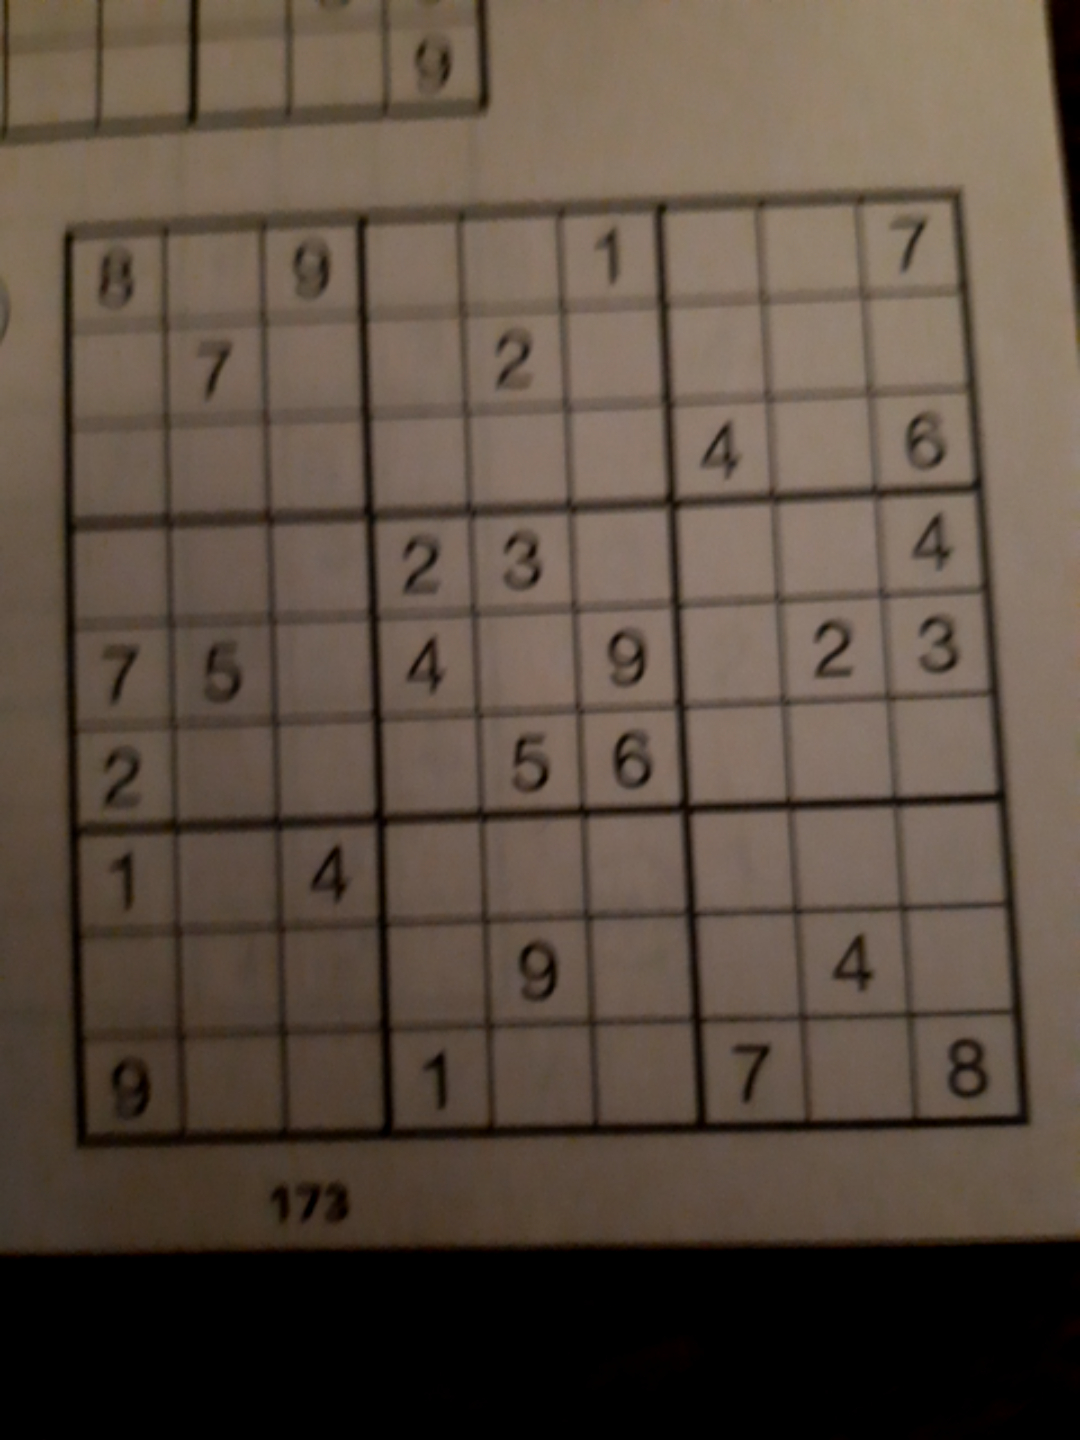sudoku: (62, 186, 1031, 1148)
